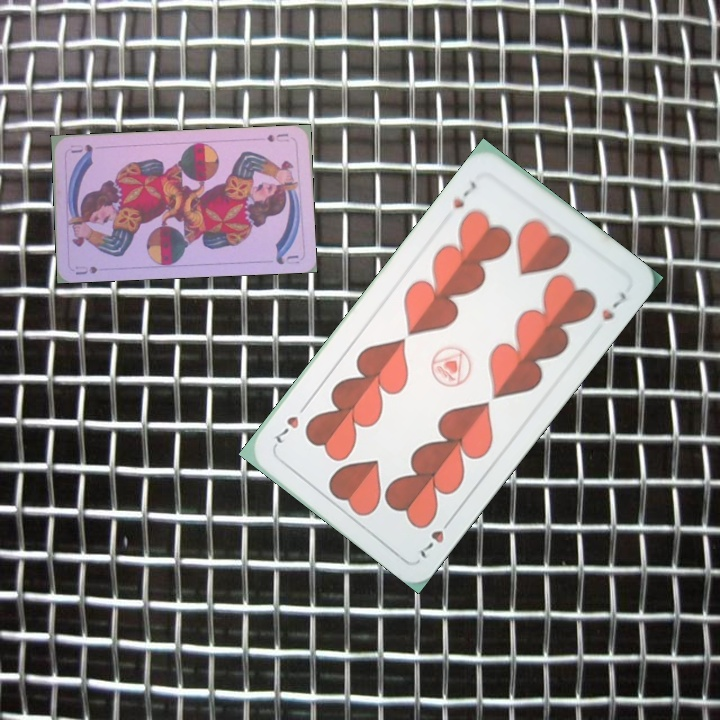H7: (416, 512, 457, 562), (448, 177, 479, 212)
SU: (71, 262, 100, 277), (263, 130, 291, 145)
